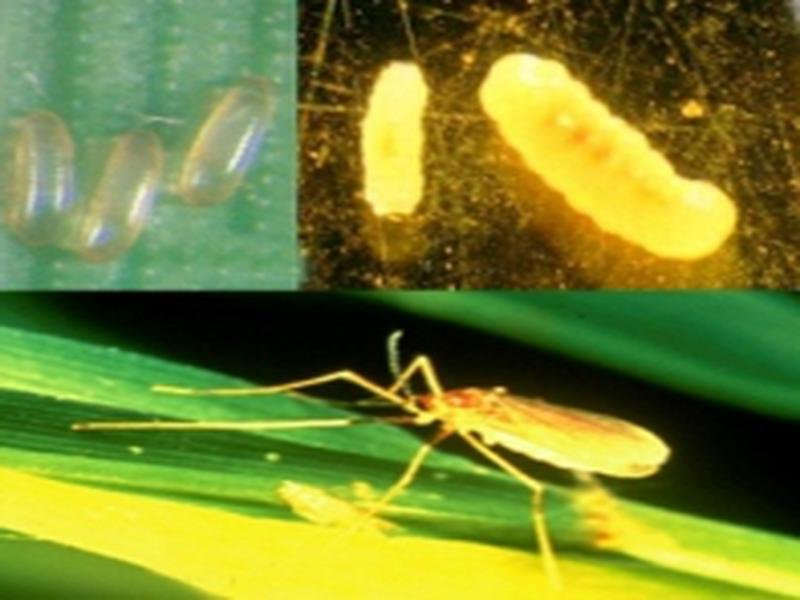Gall_midge: (480, 38, 747, 272), (346, 351, 696, 520), (11, 83, 273, 261), (352, 50, 443, 237)
